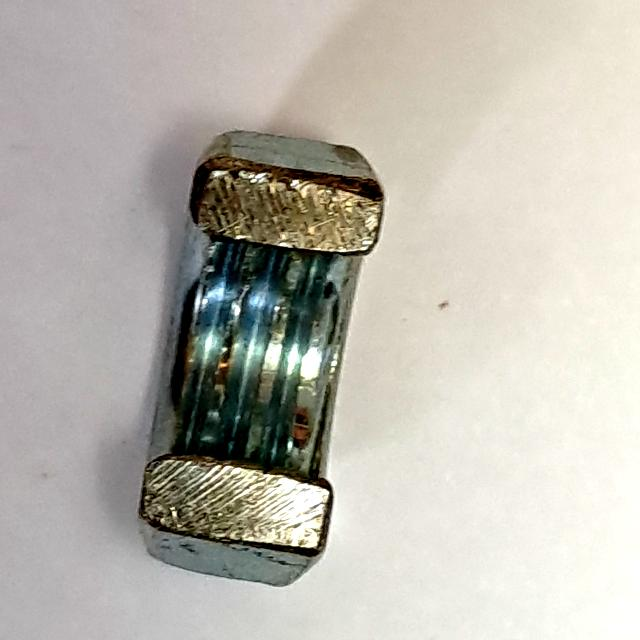Side-Fracture: (130, 107, 391, 600)
